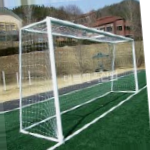goals: (15, 12, 142, 144)
